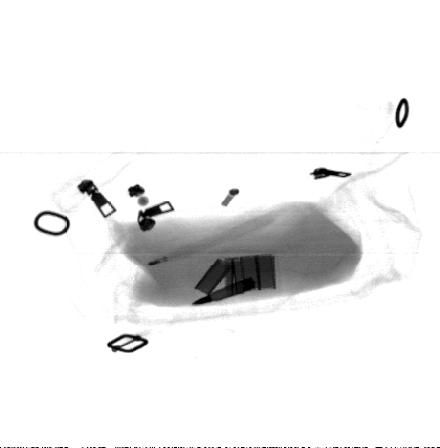Bullet: (187, 276, 260, 306)
